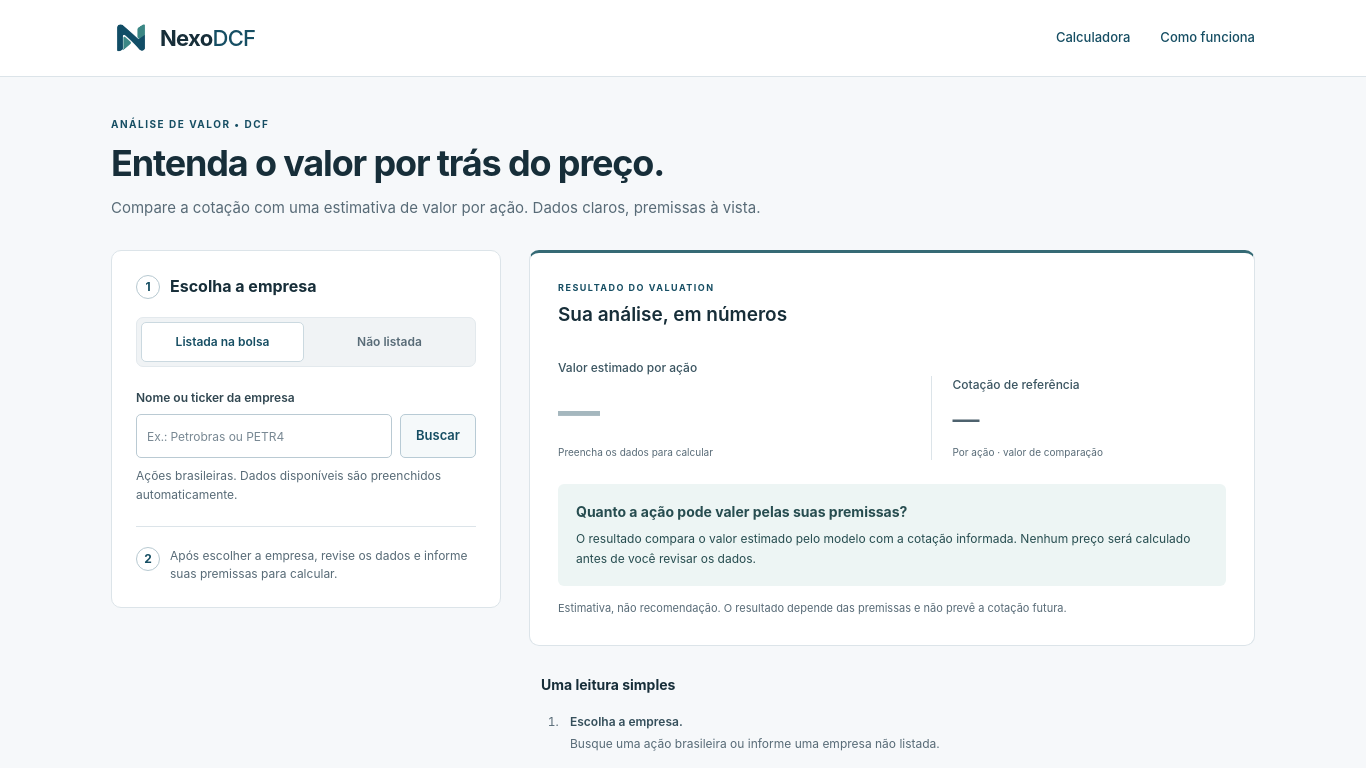
fluxos da interface › exibe falha de rede sem montar uma empresa falsa
In the field with id "company-search": (264, 436) [136,414,392,458], type "TEST3"
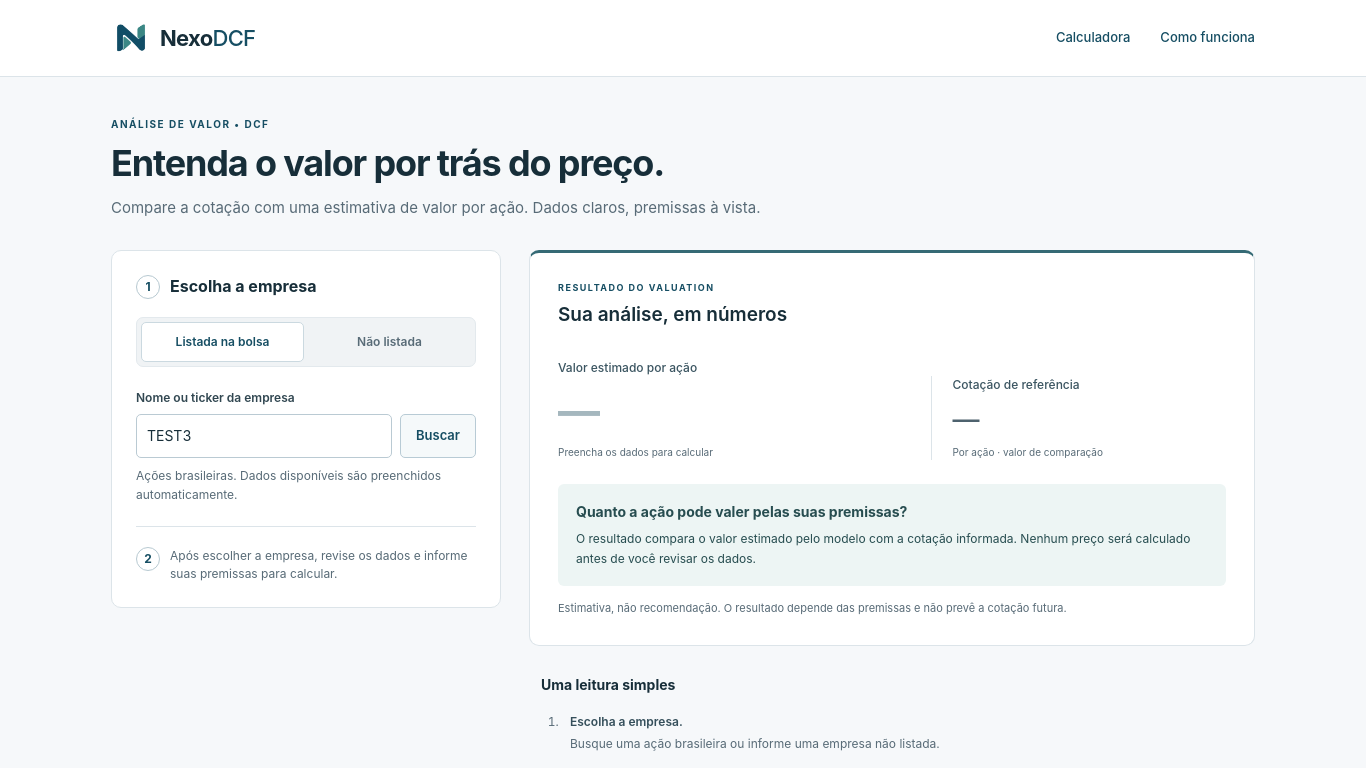
Click the button "Buscar": (438, 436) [400,414,476,458]
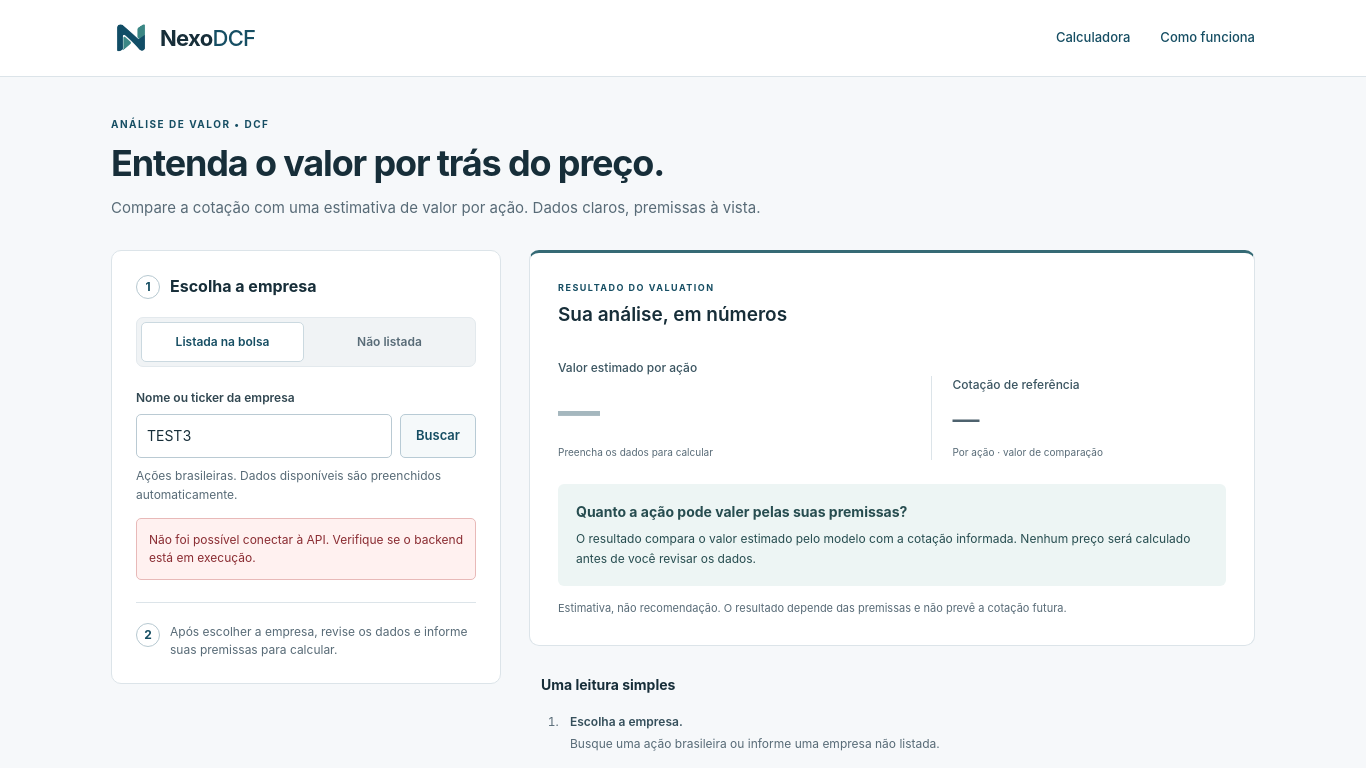
Now the message shows "Não foi possível conectar", box [149,532,463,565]
